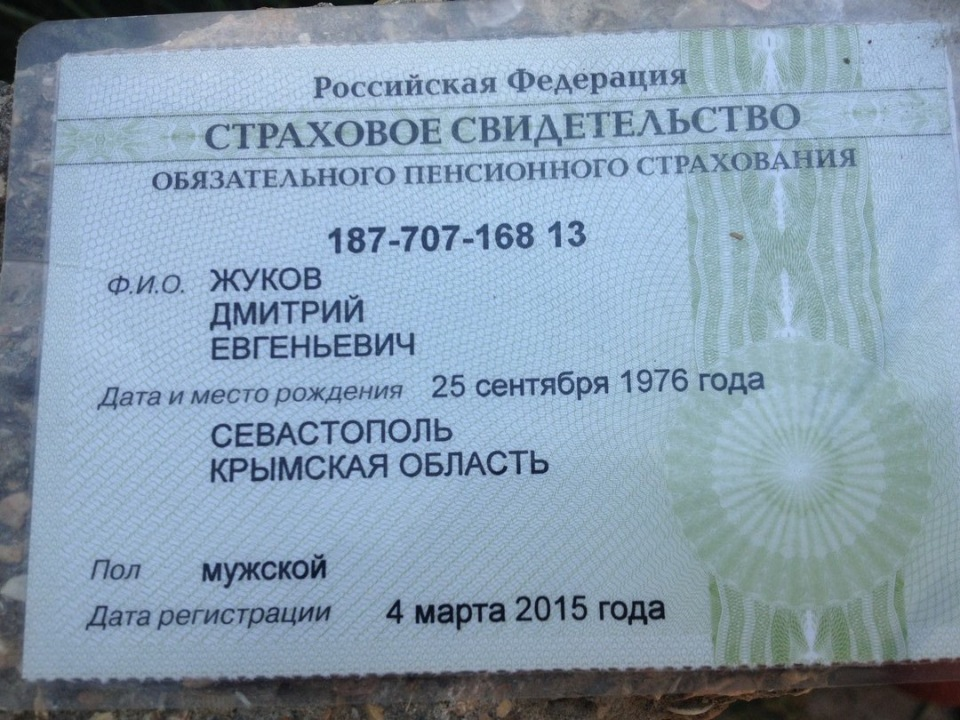text: (202, 415, 550, 484), (418, 364, 778, 401), (308, 213, 606, 254), (379, 590, 672, 630), (193, 290, 382, 330), (202, 330, 421, 362), (195, 547, 335, 584), (200, 262, 333, 295)
